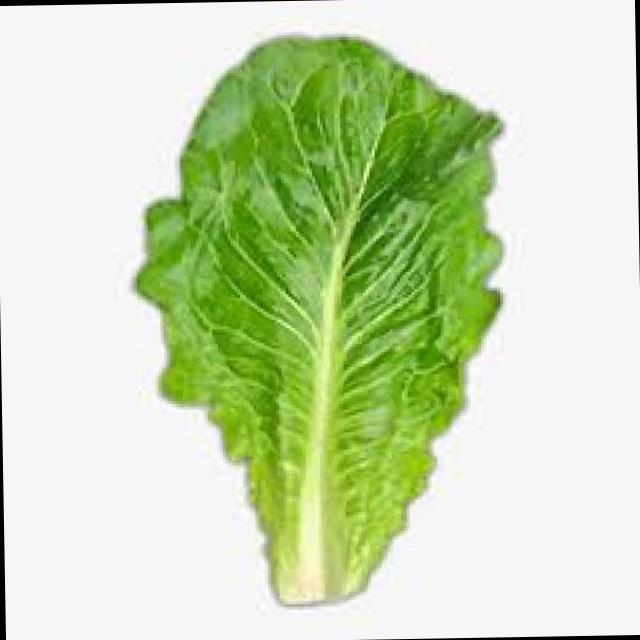Lettuce-Ready-to-Harvest: (137, 37, 500, 603)
